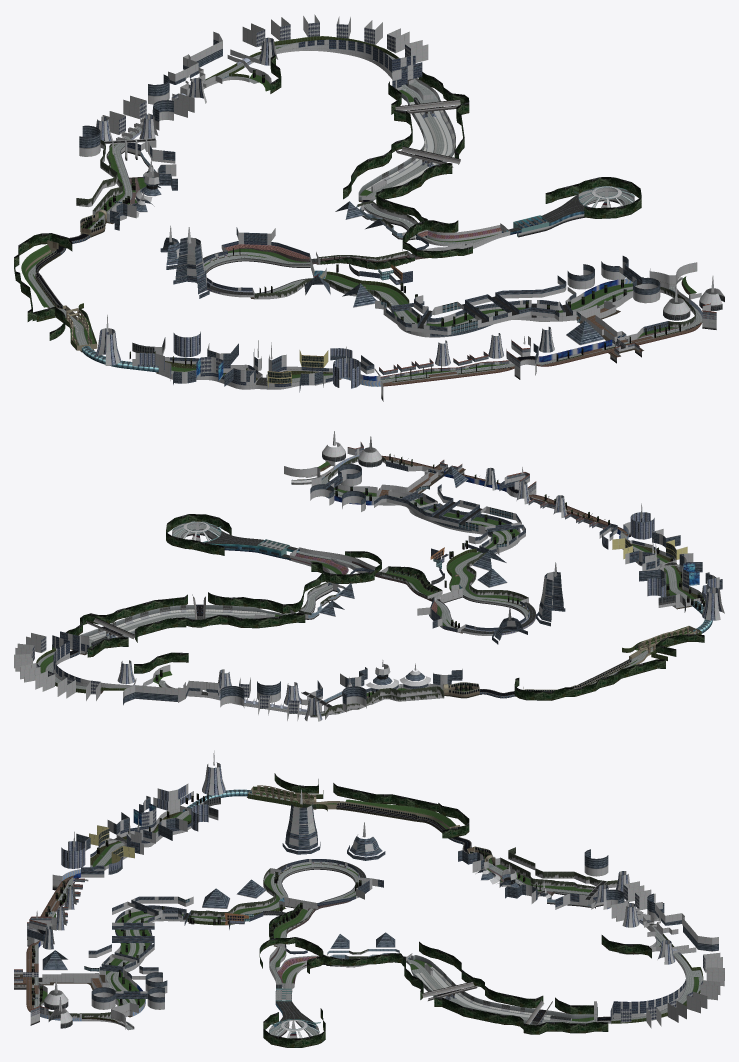
The model's file is atlantica.glb.
3 renders of one model, top to bottom at view 1: azimuth 30°, elevation 25°; view 2: azimuth 150°, elevation 25°; view 3: azimuth 270°, elevation 25°, orthographic. The views are drawn at different scales.
Parts seen in each view (by area): view 1: mesh; view 2: mesh; view 3: mesh.
Boxes of the visible parts, box(x1,y1,x2,y2) form: mesh: box(14, 14, 724, 401); mesh: box(14, 431, 724, 721); mesh: box(14, 750, 724, 1047).
Size of what is drawn, in the model's own units: 1579 by 219 by 1830.
Materials: 1 (1 with a texture image).
